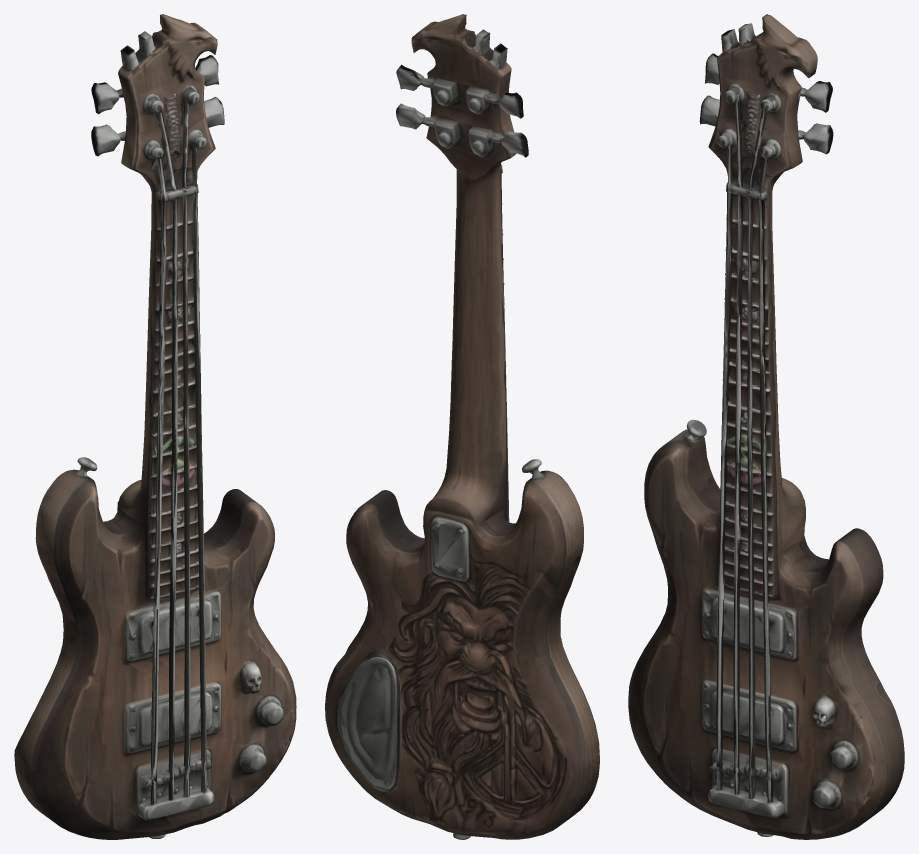
The model's file is guitare_backjlack.glb.
3 views of the same model, side by side, from view 1: azimuth 30°, elevation 25°; view 2: azimuth 150°, elevation 25°; view 3: azimuth 330°, elevation 25° (orthographic).
Parts seen in each view (by area): view 1: guitare_backjlack; view 2: guitare_backjlack; view 3: guitare_backjlack.
Boxes of the visible parts, x1=… form: guitare_backjlack: x1=14, y1=14, x2=296, y2=839; guitare_backjlack: x1=325, y1=14, x2=599, y2=839; guitare_backjlack: x1=628, y1=14, x2=904, y2=839.
Bounding box in the file's own units: 0.3103 × 0.9277 × 0.085.
1 material, 1 textured.
